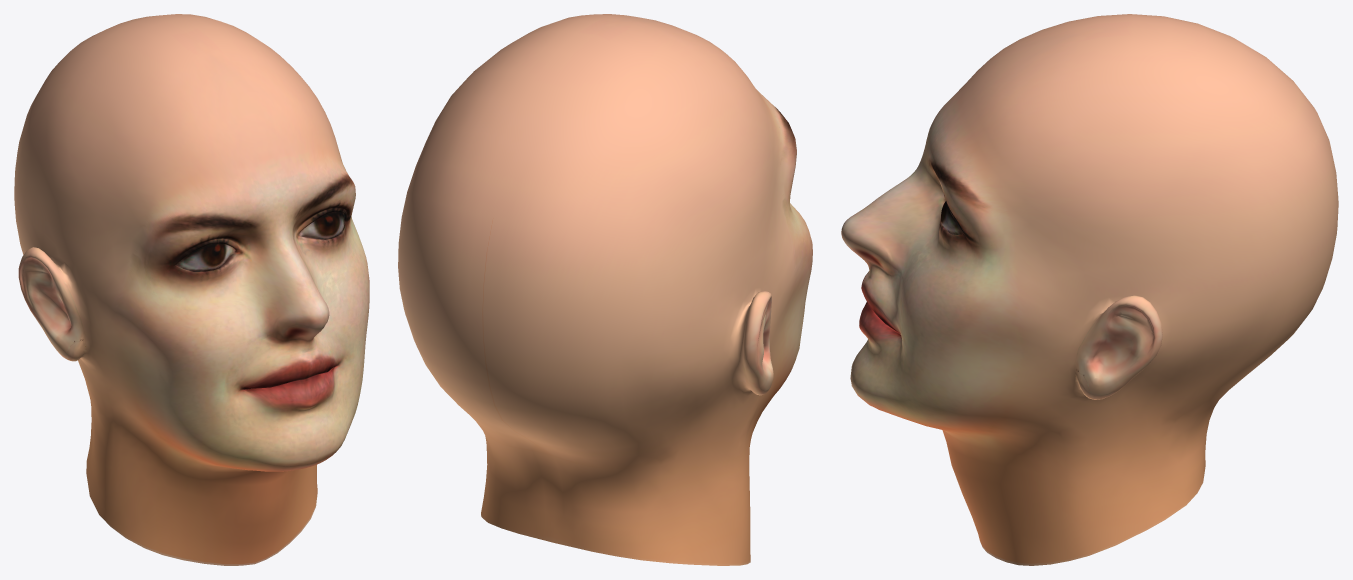
The picture shows the model from 3 angles, left to right: view 1: azimuth 30°, elevation 25°; view 2: azimuth 150°, elevation 25°; view 3: azimuth 270°, elevation 25°; orthographic projection. The views are drawn at different scales.
Visible parts, largest first — view 1: skin_hi, eyeR_hi, eyeL_hi; view 2: skin_hi; view 3: skin_hi.
Boxes of the visible parts, x1,y1,x2,y2 form: skin_hi: [14, 14, 369, 565]; eyeR_hi: [176, 243, 234, 271]; eyeL_hi: [299, 211, 344, 239]; skin_hi: [398, 14, 812, 565]; skin_hi: [841, 14, 1338, 565].
Size of the model in its own units: 188 by 281 by 247.
Materials: 3 (3 with a texture image).
